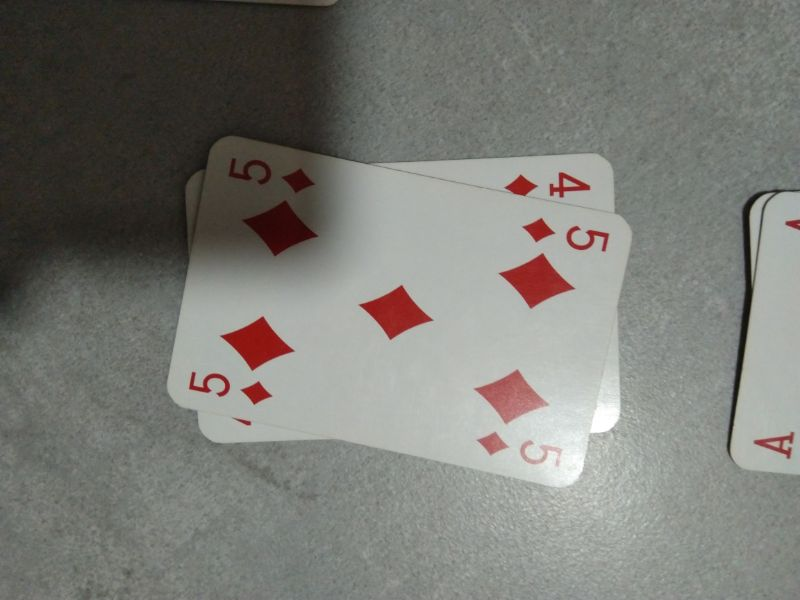4d: (501, 162, 599, 203)
5d: (221, 145, 323, 201), (468, 422, 570, 475), (519, 208, 617, 263), (178, 360, 275, 411)
